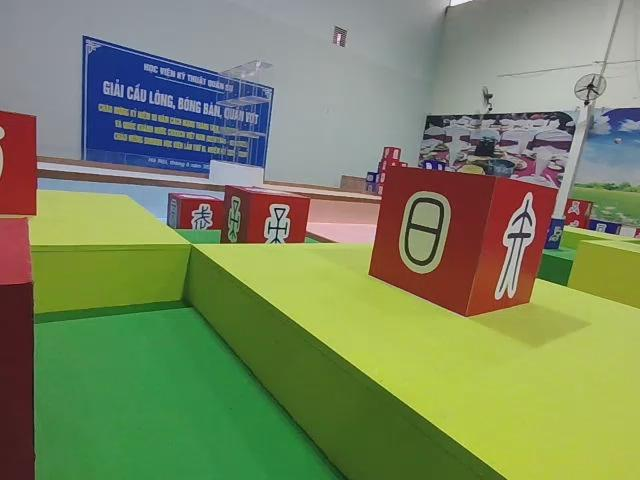R2 Fake: (367, 165, 561, 320), (166, 193, 224, 238)
R2 Real: (221, 184, 310, 254)
